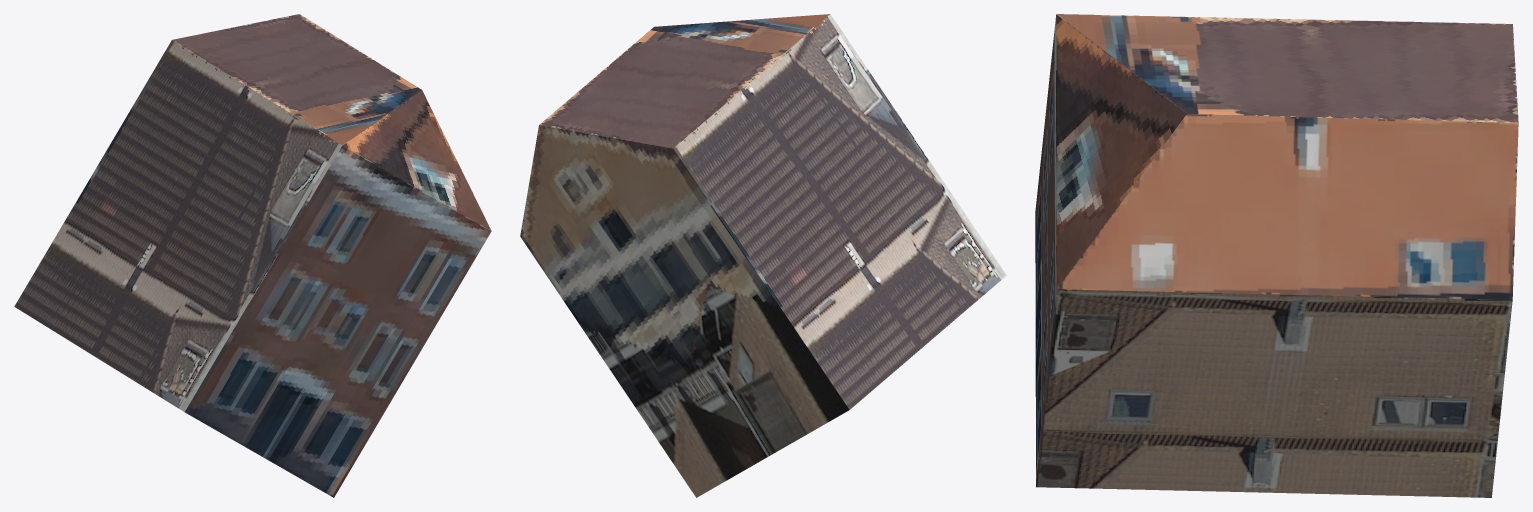
The picture shows the model from 3 angles, left to right: view 1: azimuth 30°, elevation 25°; view 2: azimuth 150°, elevation 25°; view 3: azimuth 270°, elevation 25°; orthographic projection. The views are drawn at different scales.
Parts seen in each view (by area): view 1: BAG_0599100000760396 (×2); view 2: BAG_0599100000760396 (×2); view 3: BAG_0599100000760396 (×3).
Boxes of the visible parts, <box> form: BAG_0599100000760396 (×2): <box>14,14,491,497</box>; BAG_0599100000760396 (×2): <box>520,14,1006,497</box>; BAG_0599100000760396 (×3): <box>1035,14,1518,497</box>.
Size of the model in its own units: 13.51 by 14.18 by 12.42.
Materials: 3 (3 with a texture image).
